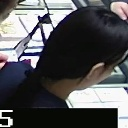head: (48, 37, 114, 89)
